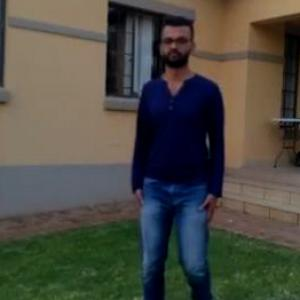follow: (130, 11, 230, 299)
